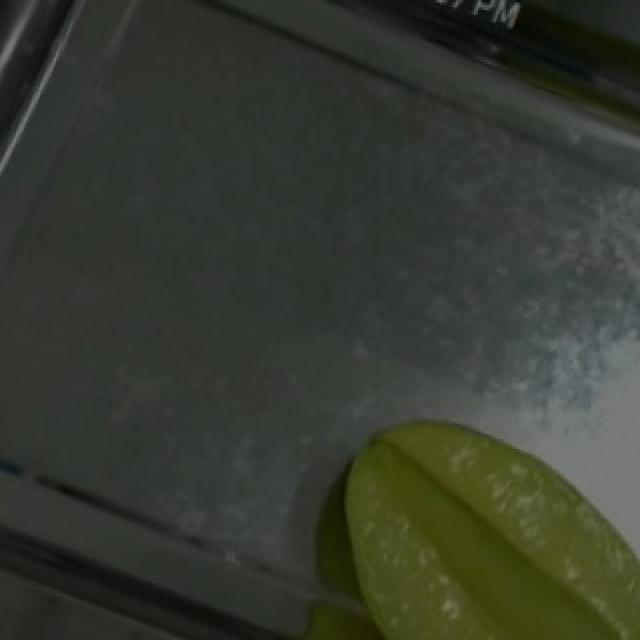fruit: (278, 382, 640, 640)
